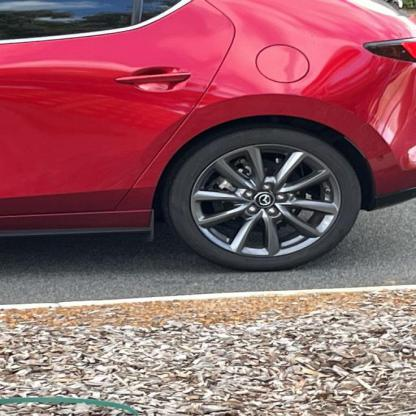Tire: (160, 129, 361, 273)
